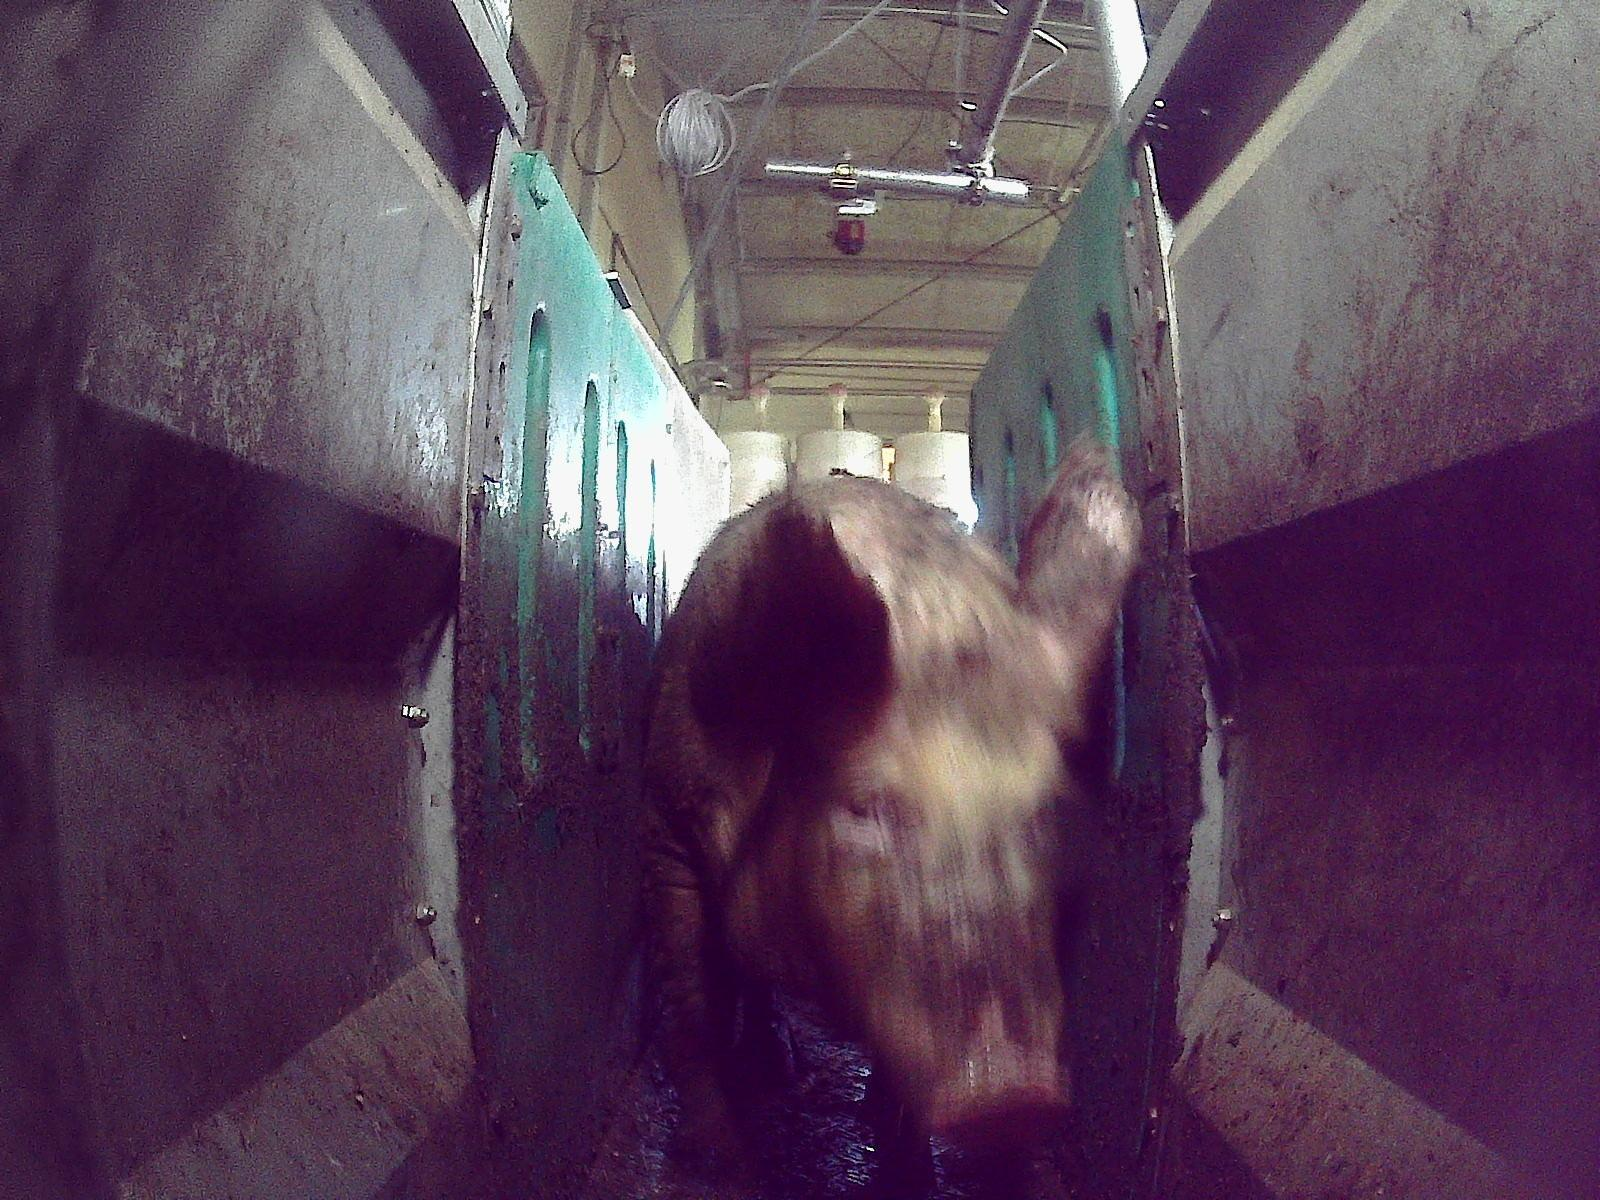Face: (799, 659, 1094, 1154)
